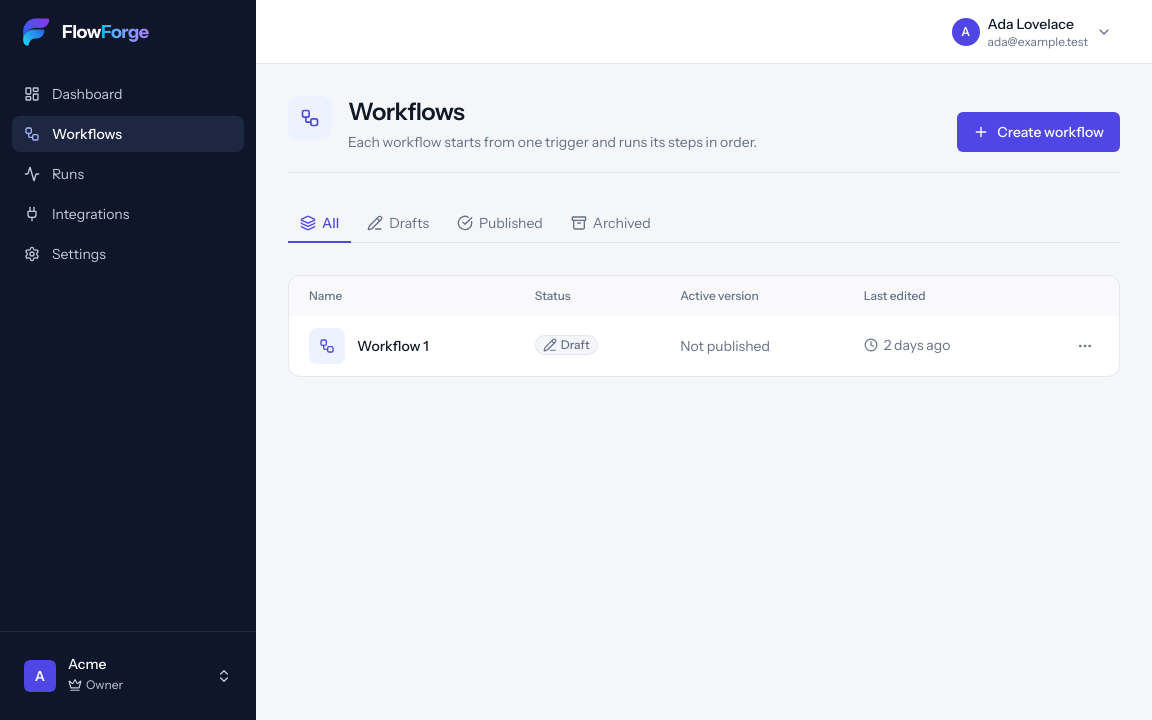
Test: Workflows list (Part 04) › deletes a workflow that never ran
The image size is (1152, 720).
Click the button named "Actions for Workflow 1". click: (1085, 346)
box: [1071,332,1099,360]
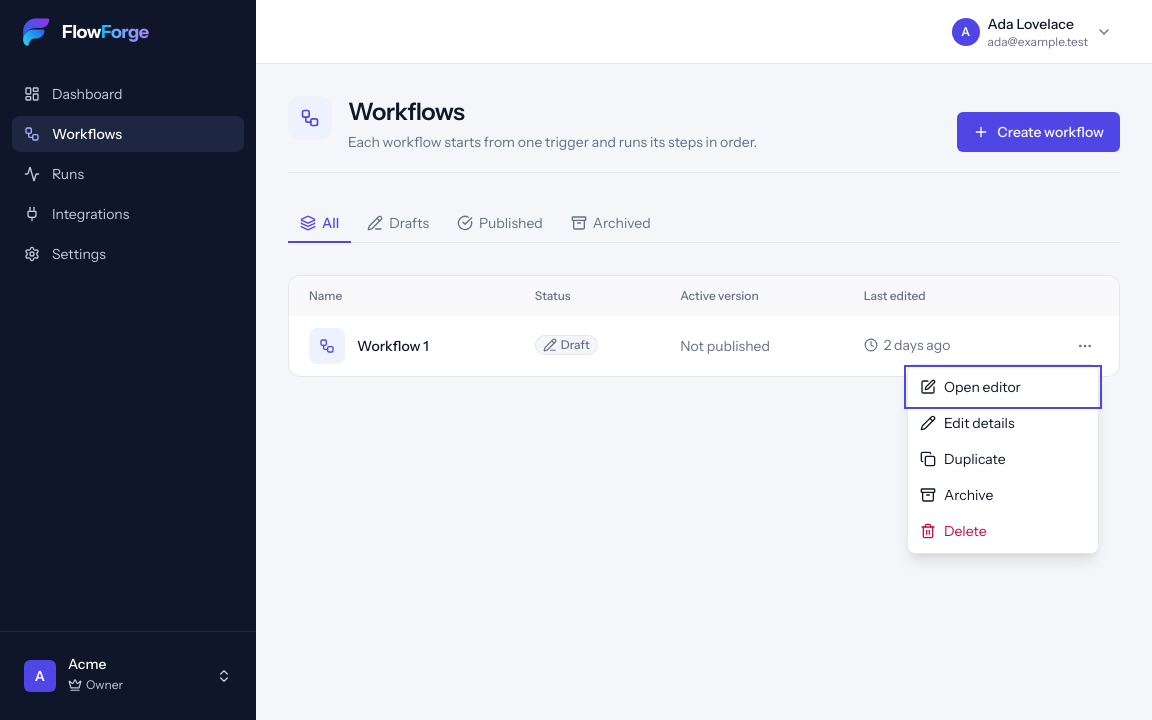
Click the menu item "Delete". click: (1003, 531)
box: [908,513,1098,549]
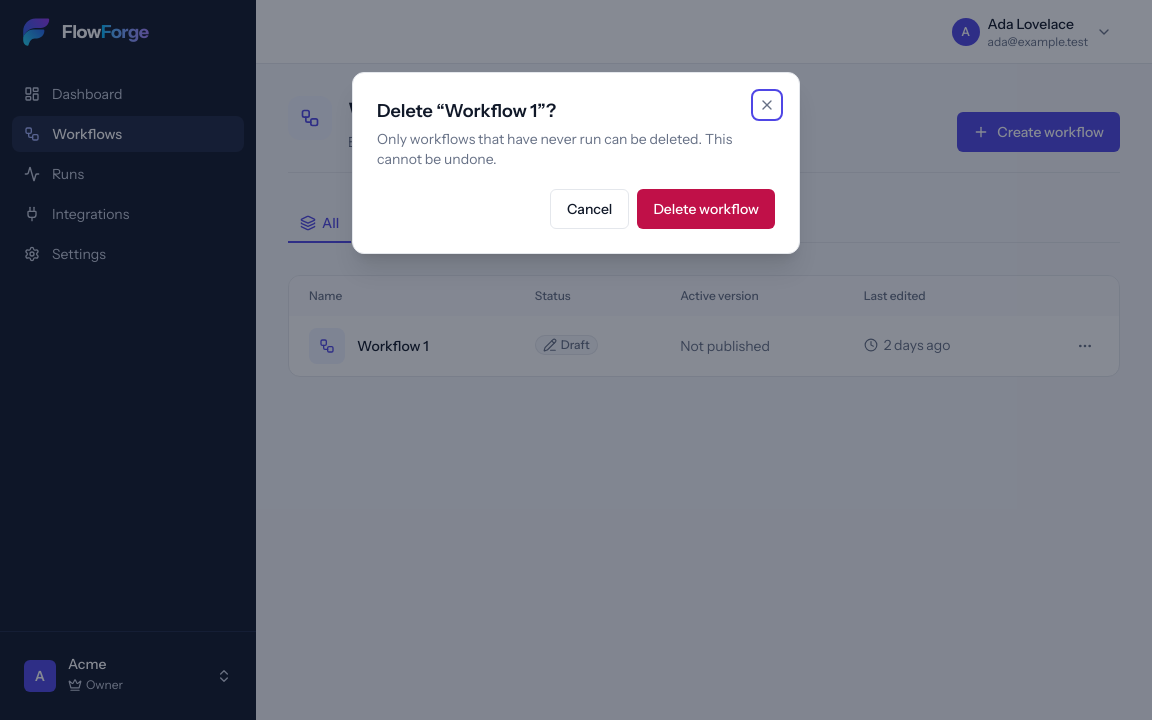
Click the button "Delete workflow". click: (706, 209)
box: [637,189,775,229]
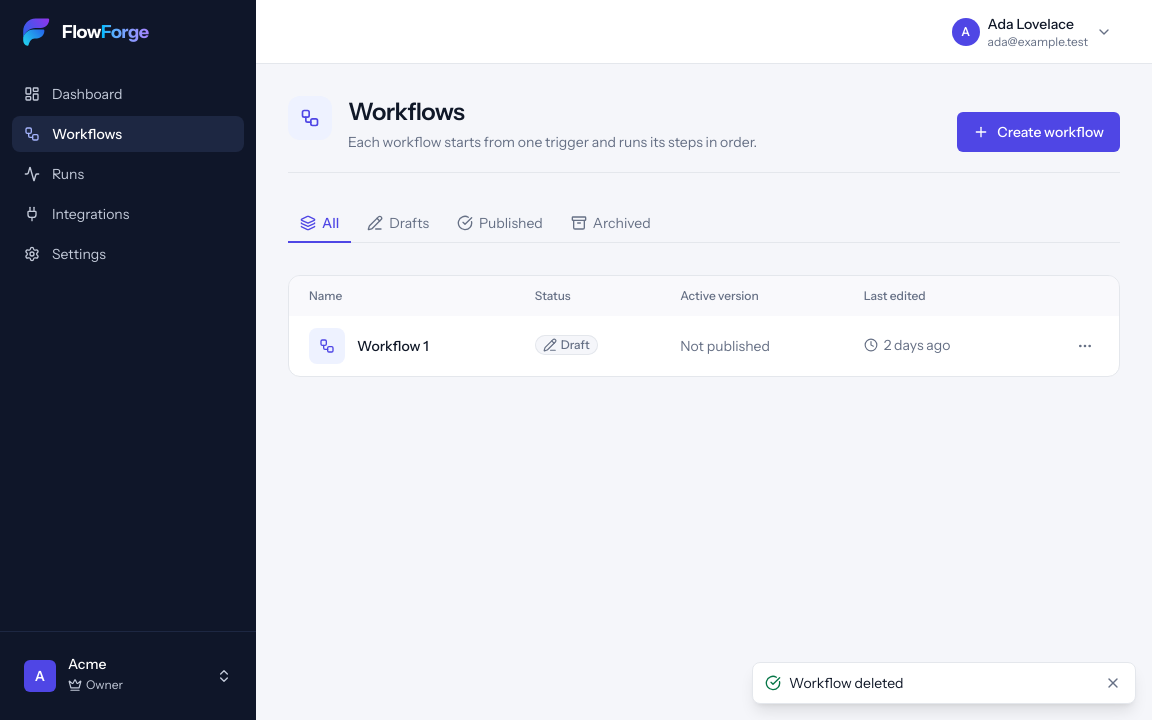
Now the dialog is gone
